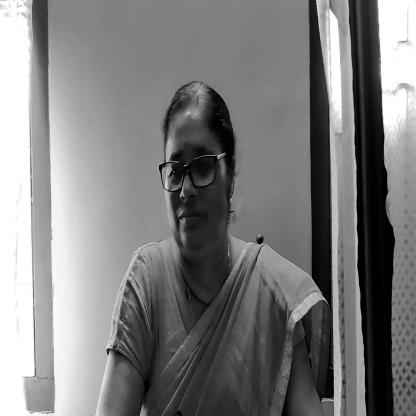Normal: (161, 78, 234, 258)
